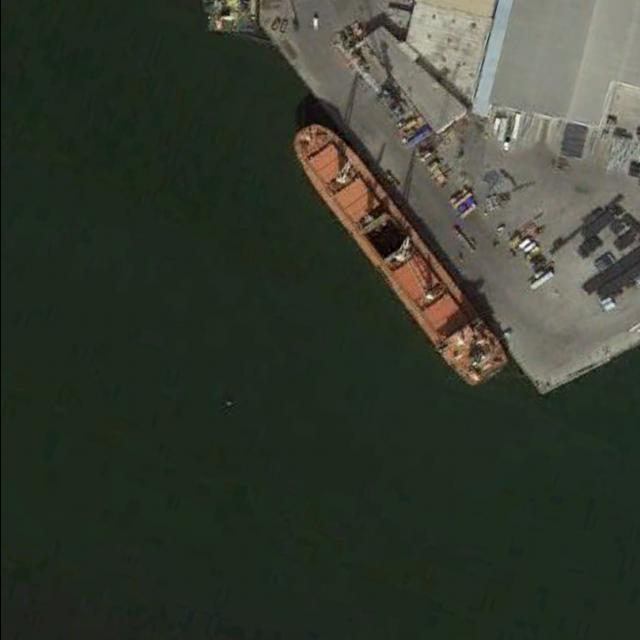ship: (292, 123, 508, 385)
